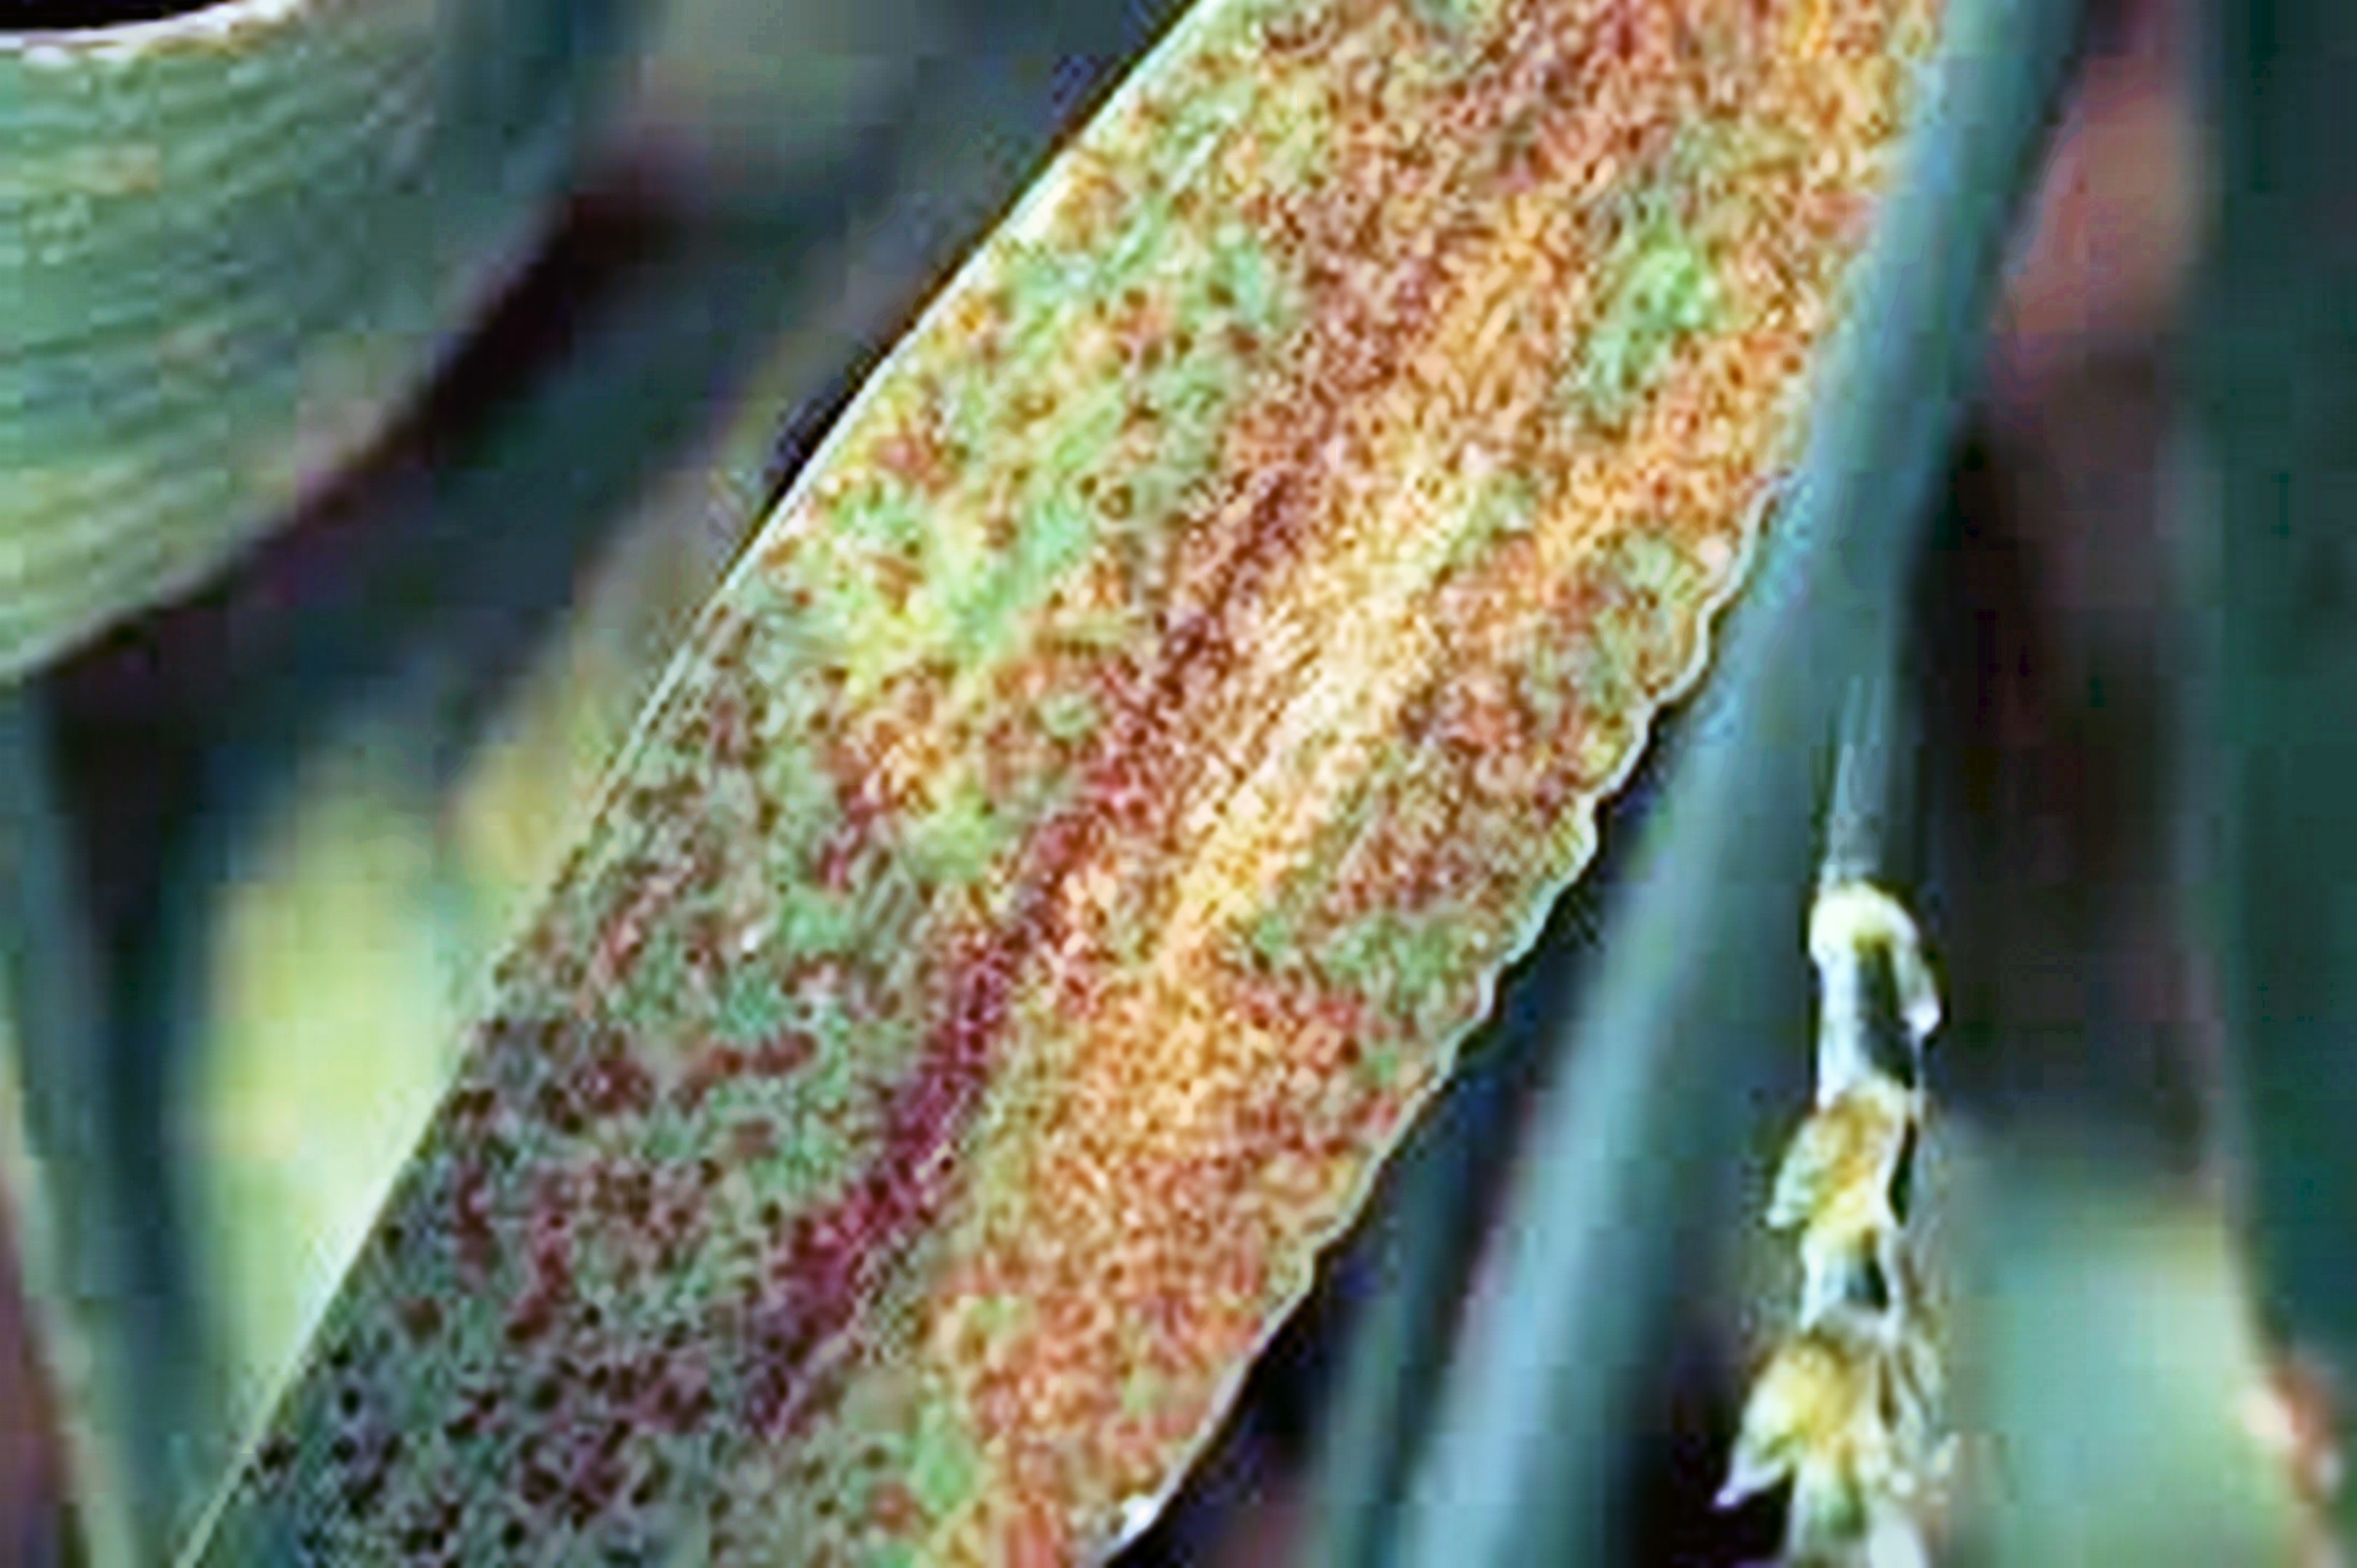Leaf Rust: (478, 231, 1764, 1487)
